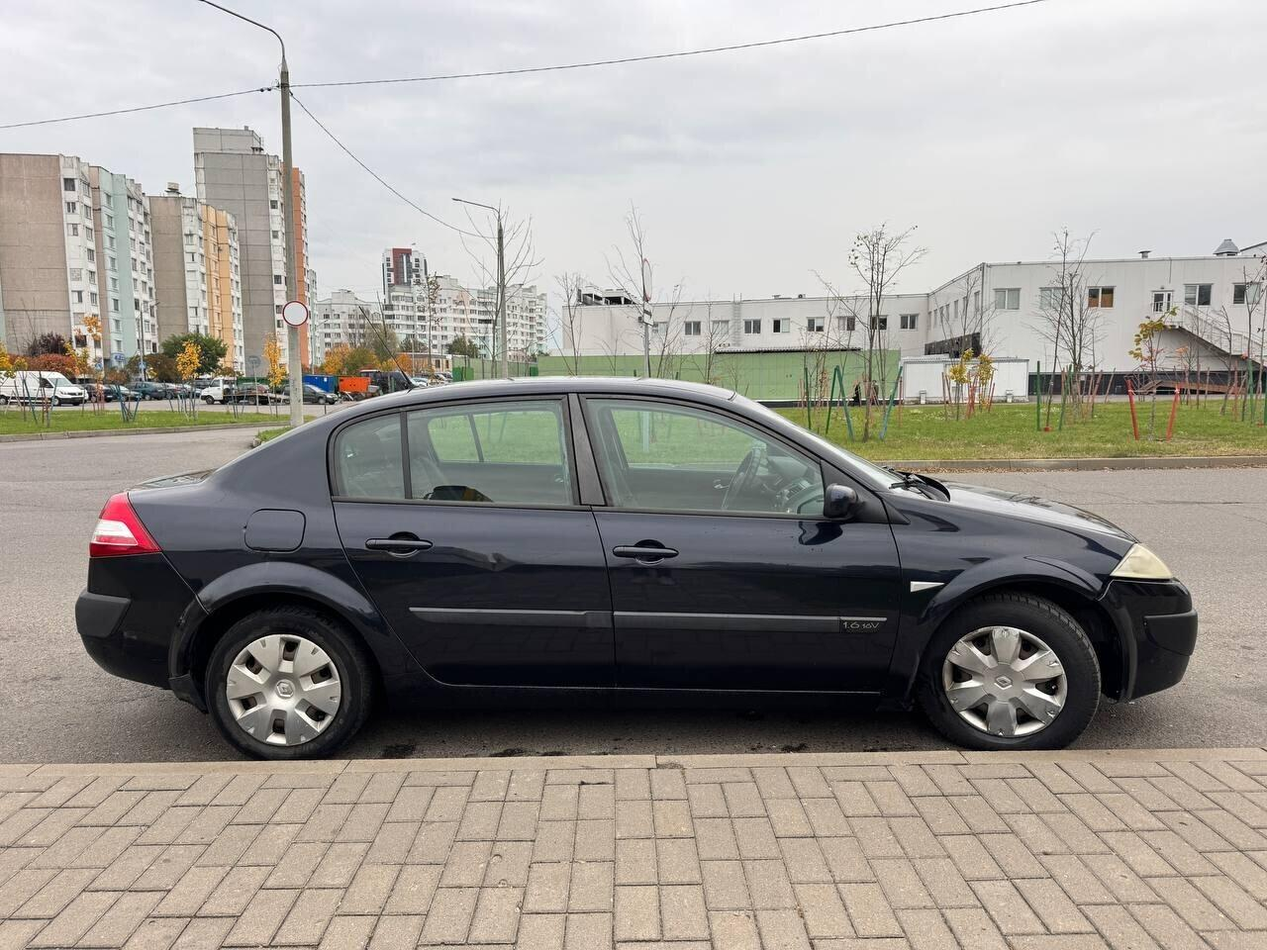Megane_2005-2009: (68, 365, 1187, 762)
